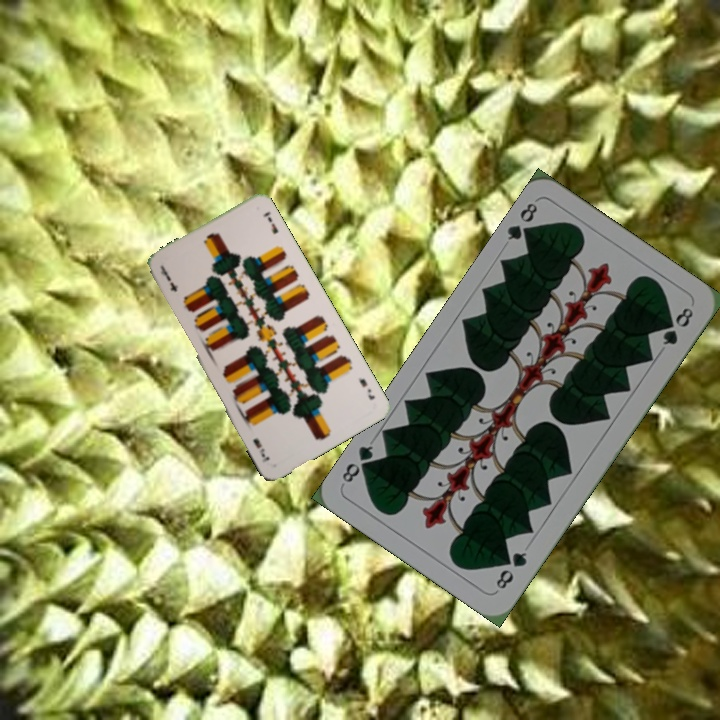E7: (156, 264, 179, 295), (354, 373, 377, 402)
G8: (491, 548, 530, 594), (502, 198, 540, 245)
